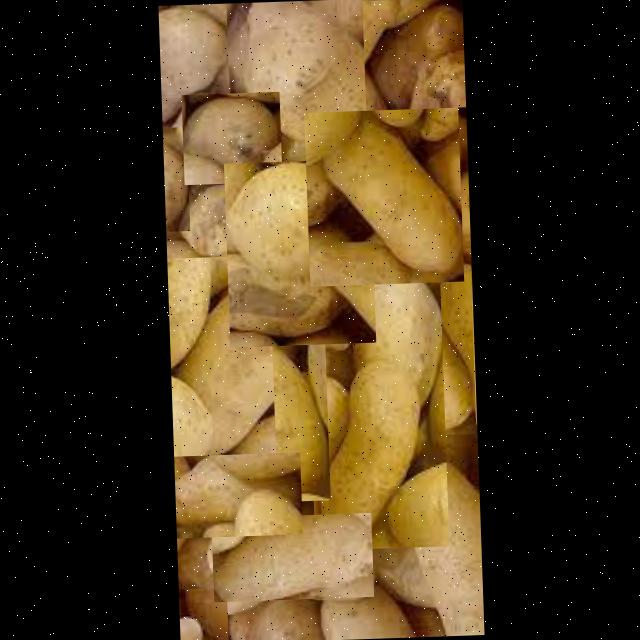Potato: (304, 254, 448, 550), (244, 0, 466, 168), (222, 158, 374, 347), (302, 107, 462, 286), (166, 255, 274, 460), (223, 336, 329, 503), (398, 447, 482, 636), (210, 512, 373, 602), (397, 248, 475, 436), (361, 0, 465, 110), (172, 452, 302, 538), (180, 92, 281, 185), (157, 4, 229, 130), (222, 589, 330, 640), (321, 578, 409, 640), (161, 126, 189, 232), (177, 587, 227, 640)
